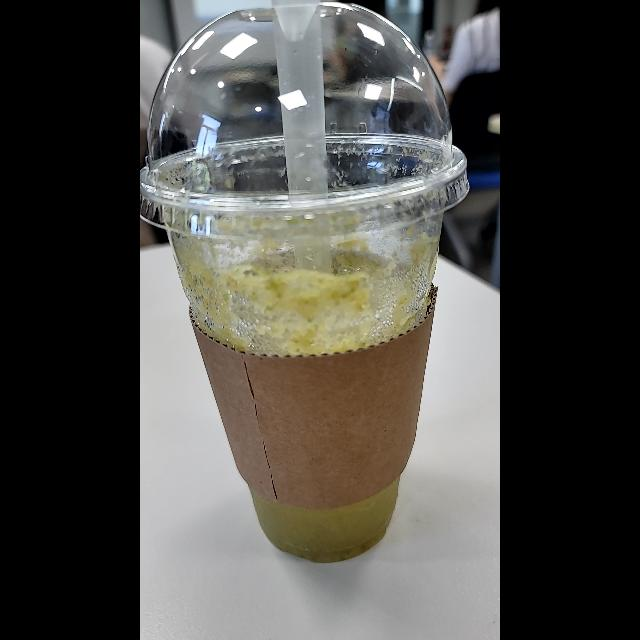plastic_cup: (140, 1, 472, 570)
plastic_cup_lid: (140, 0, 470, 250)
straw: (262, 1, 342, 296)
